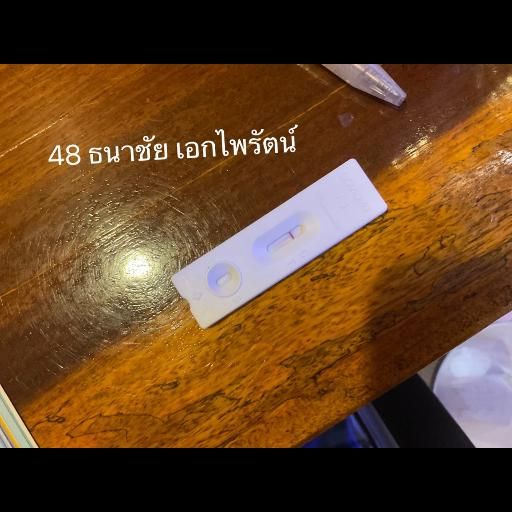Neg: (169, 157, 388, 330)
